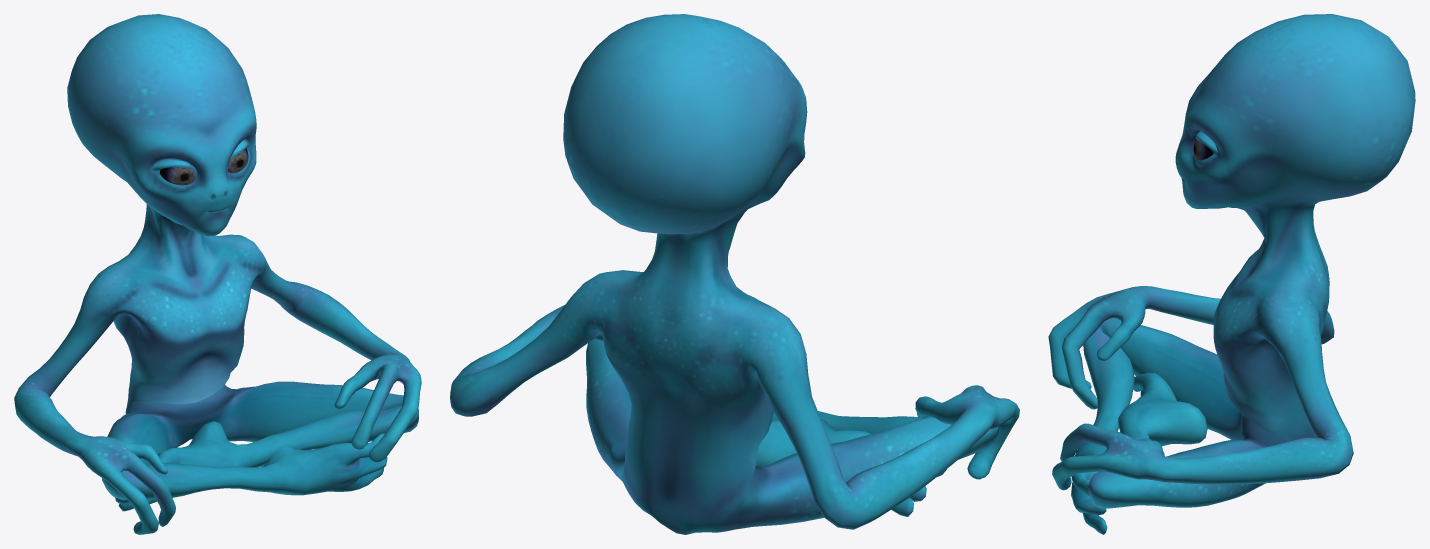
The model's file is alien.obj.
3 views of the same model, side by side, from view 1: azimuth 30°, elevation 25°; view 2: azimuth 150°, elevation 25°; view 3: azimuth 270°, elevation 25° (orthographic). The views are drawn at different scales.
Visible parts, largest first — view 1: alien_rig_master:CartoonAlien.1_Mesh_0; view 2: alien_rig_master:CartoonAlien.1_Mesh_0; view 3: alien_rig_master:CartoonAlien.1_Mesh_0.
Part boxes in pixels (left/top/right/bottom): alien_rig_master:CartoonAlien.1_Mesh_0: left=14, top=14, right=421, bottom=534; alien_rig_master:CartoonAlien.1_Mesh_0: left=450, top=14, right=1019, bottom=534; alien_rig_master:CartoonAlien.1_Mesh_0: left=1048, top=14, right=1415, bottom=534.
Bounding box in the file's own units: 0.6077 × 0.6906 × 0.5123.
1 material, 1 textured.
